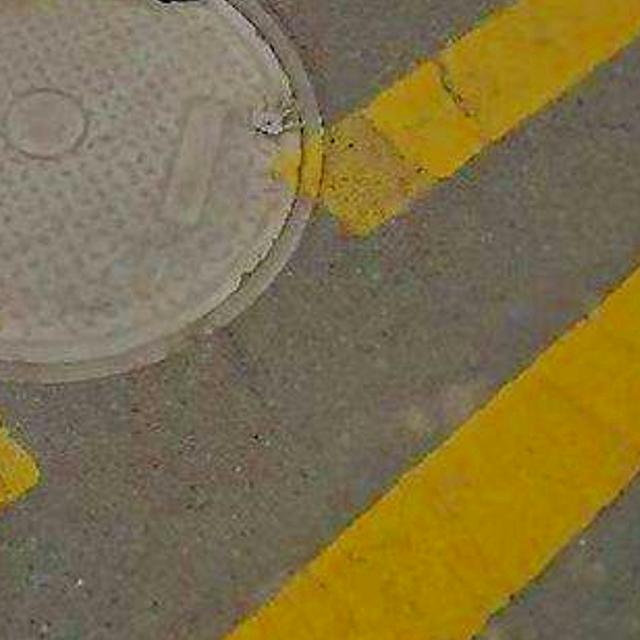broke: (0, 0, 322, 383)
